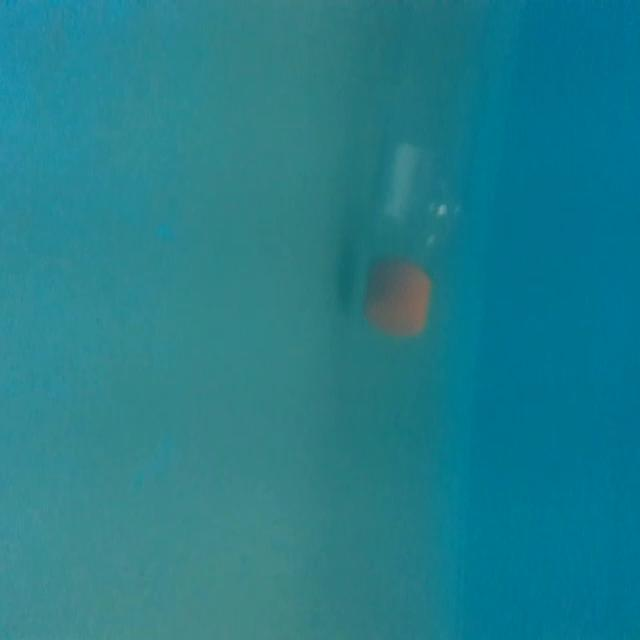plastic bottle: (352, 0, 494, 344)
